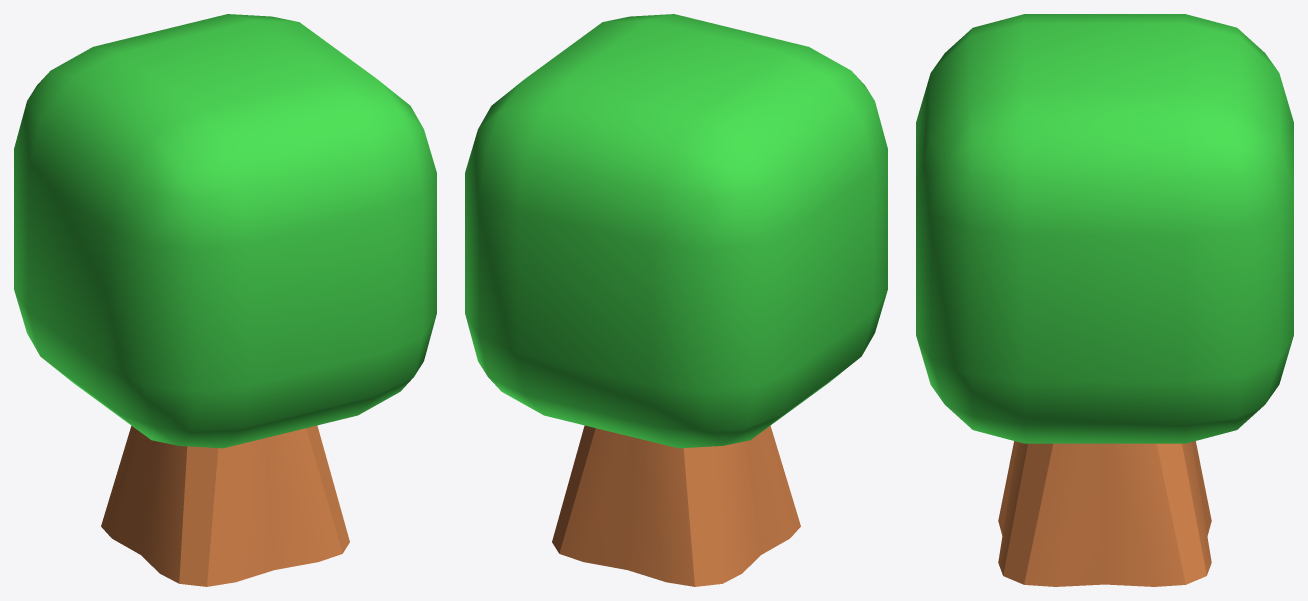
Rendered from Tree001.fbx.
3 views of the same model, side by side, from view 1: azimuth 30°, elevation 25°; view 2: azimuth 150°, elevation 25°; view 3: azimuth 270°, elevation 25° (orthographic). The views are drawn at different scales.
Parts seen in each view (by area): view 1: Tree001; view 2: Tree001; view 3: Tree001.
Boxes of the visible parts, bbox=[...] form: Tree001: bbox=[14, 14, 436, 586]; Tree001: bbox=[465, 14, 887, 586]; Tree001: bbox=[916, 14, 1293, 586].
Size of the model in its own units: 437 by 617 by 437.
